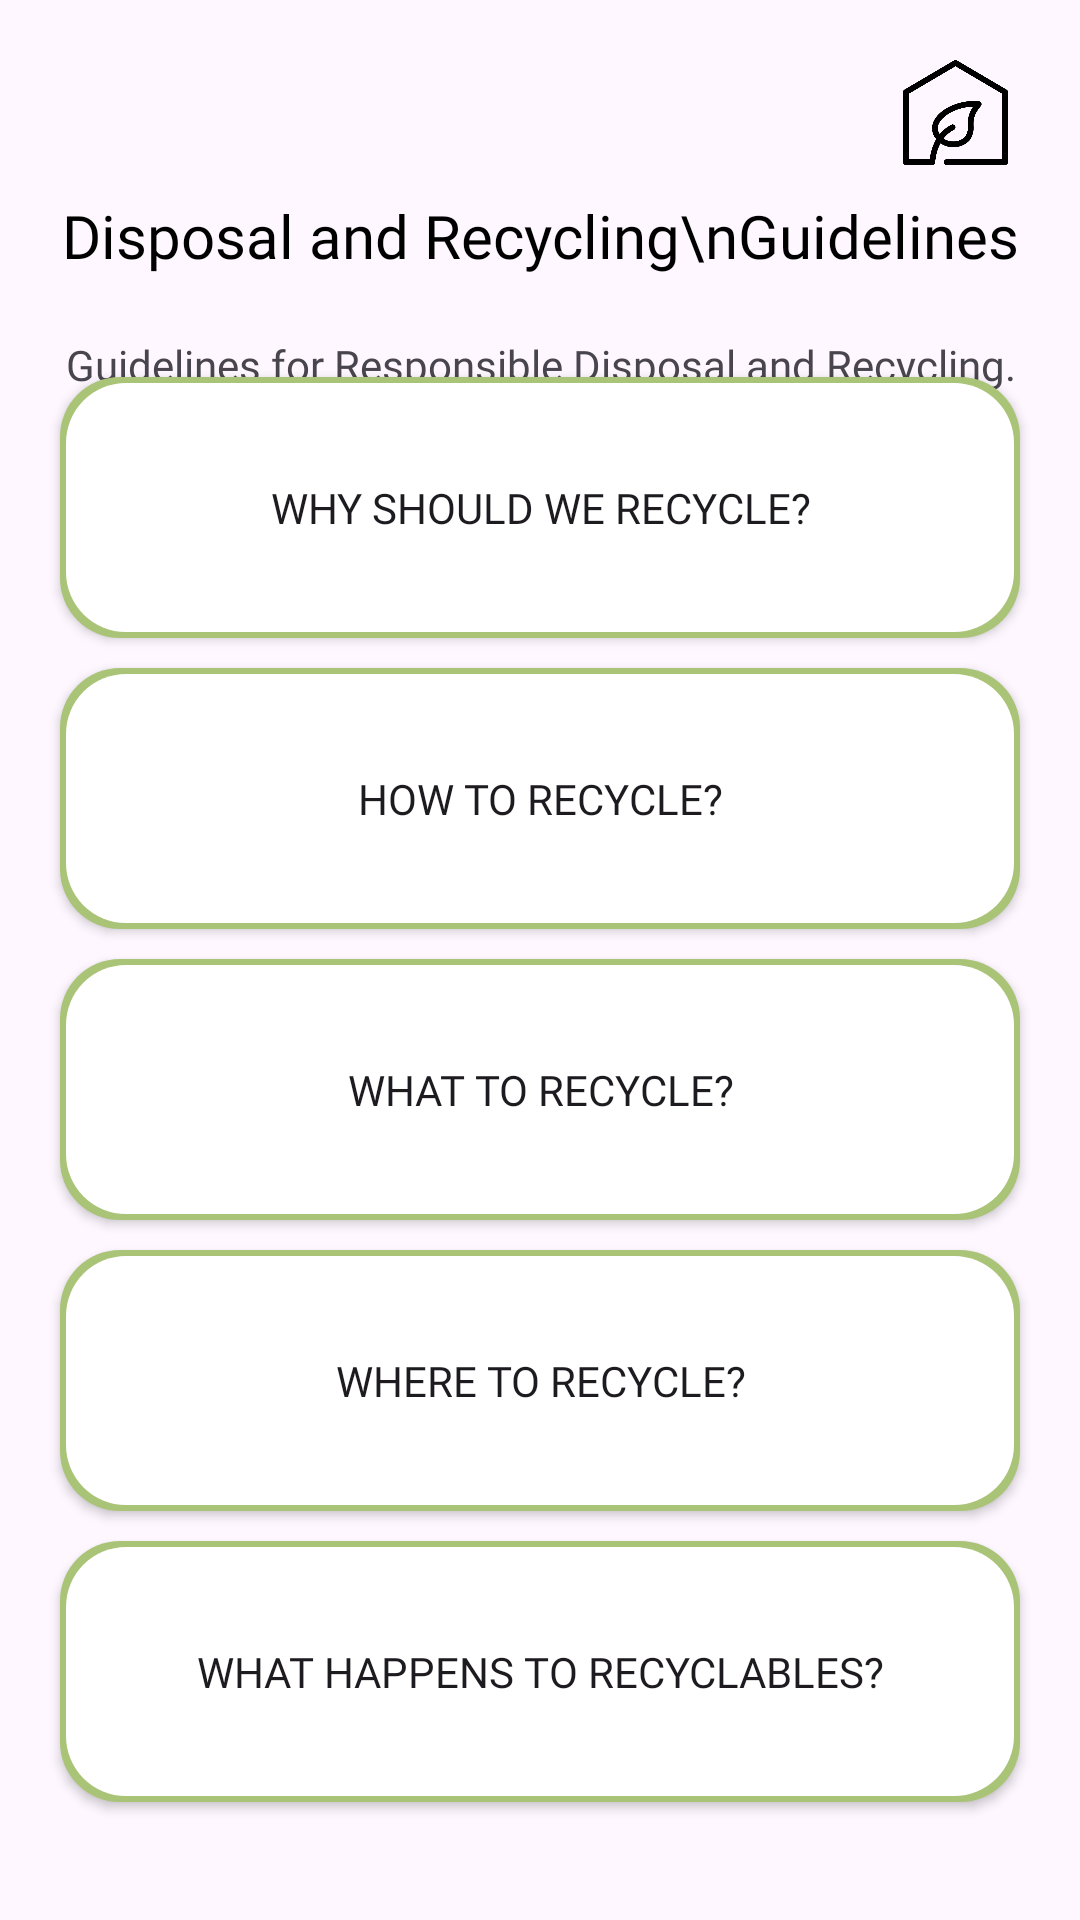

Icons on this 1080px x 1920px Android screen, each with the point to tap as (x,y):
greenhouse: (955,112)
